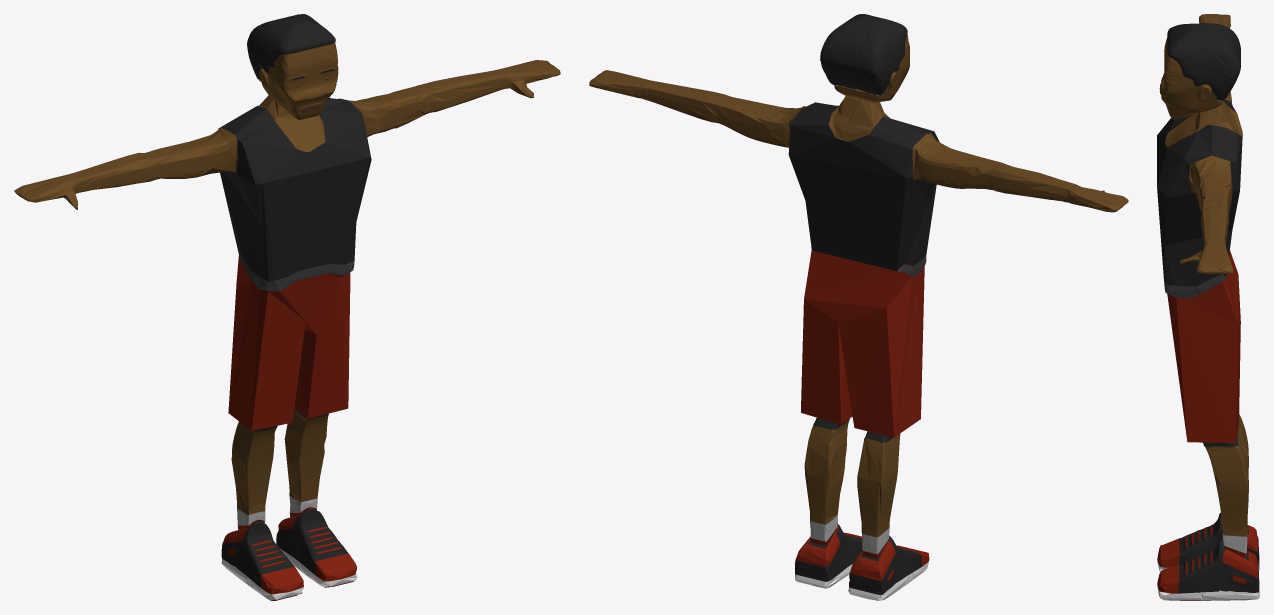
Rendered from playerK.glb.
The picture shows the model from 3 angles, left to right: view 1: azimuth 30°, elevation 25°; view 2: azimuth 150°, elevation 25°; view 3: azimuth 270°, elevation 25°; orthographic projection.
Size of the model in its own units: 1.8 by 1.8 by 0.3036.
1 material, 1 textured.
